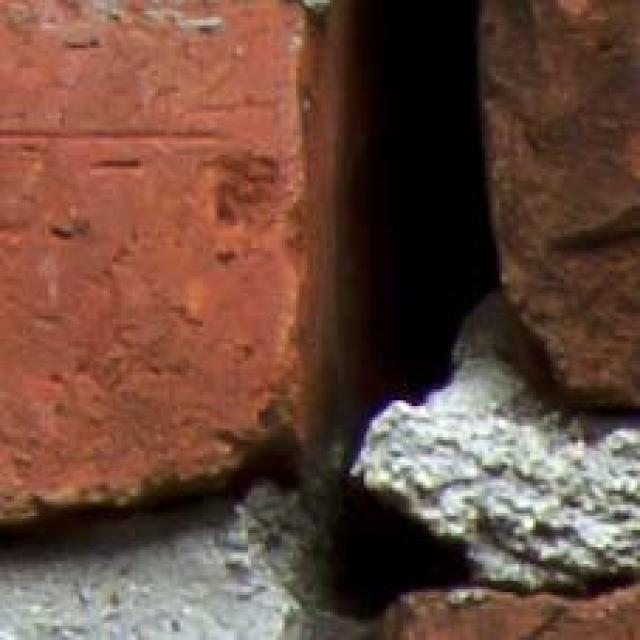Crack: (0, 0, 579, 640)
